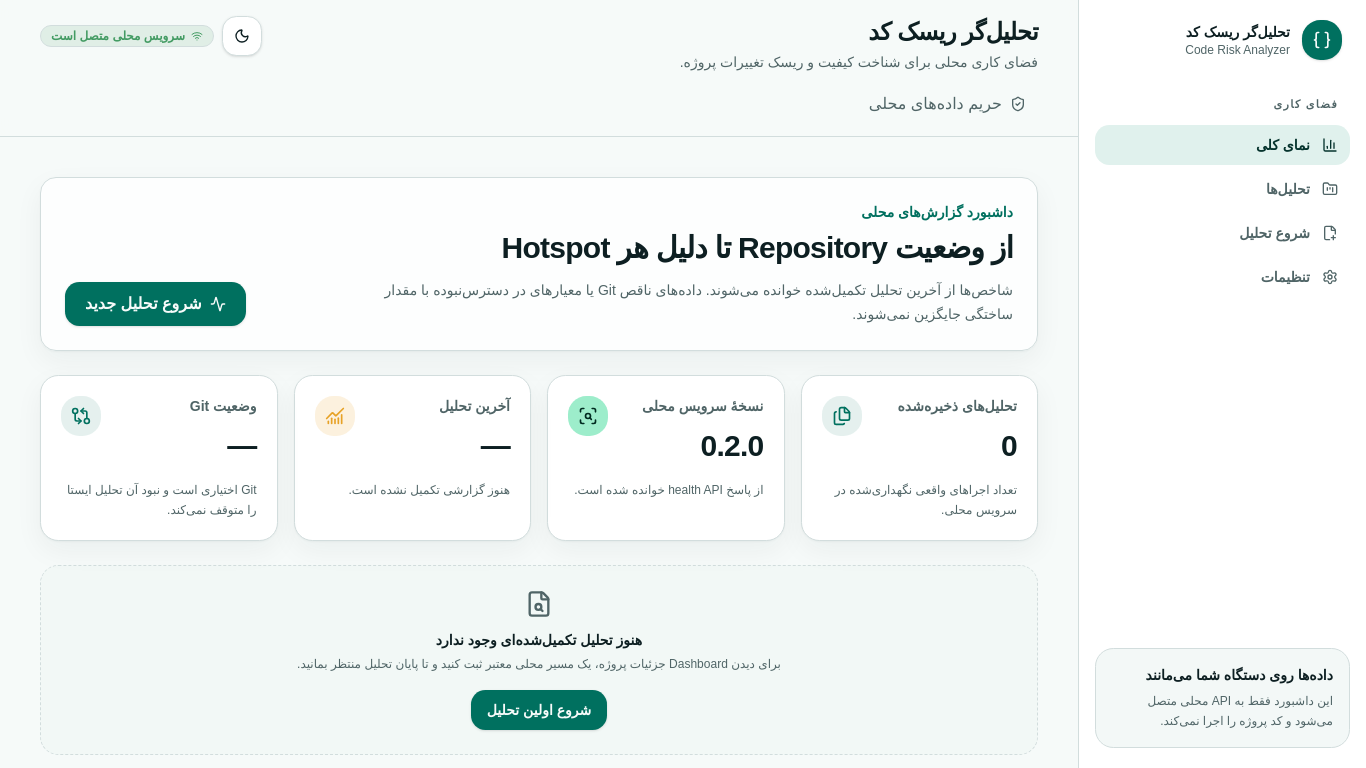
Test: dashboard shell › renders Persian navigation and does not require a remote API URL
Expected: the heading "تحلیل‌گر ریسک کد" is shown, [868,18,1038,45]
Expected: the link "شروع تحلیل" is shown, [1239,225,1338,241]
Click the button named "فعال‌کردن حالت تاریک" at (242, 36), box [222,16,262,56]
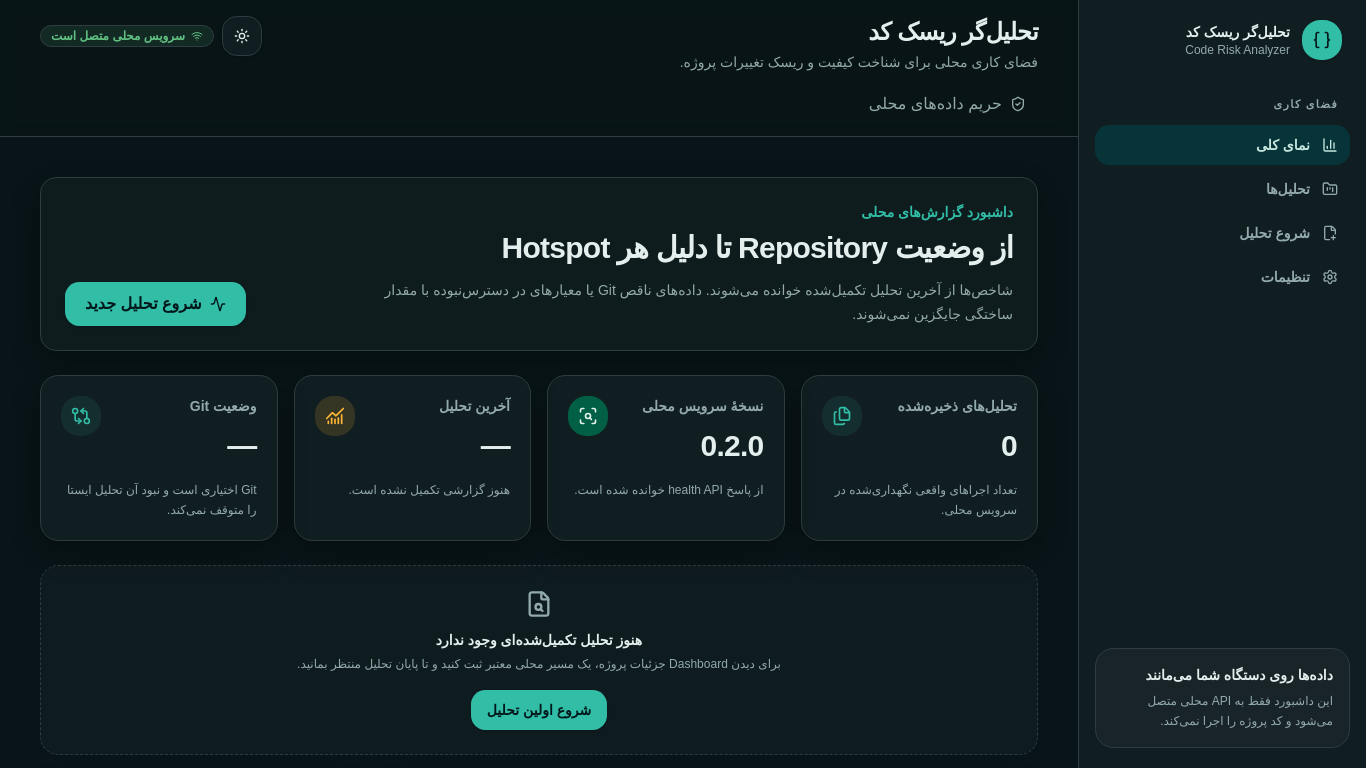
Result: the button named "فعال‌کردن حالت روشن" is shown at [222,16,262,56]
